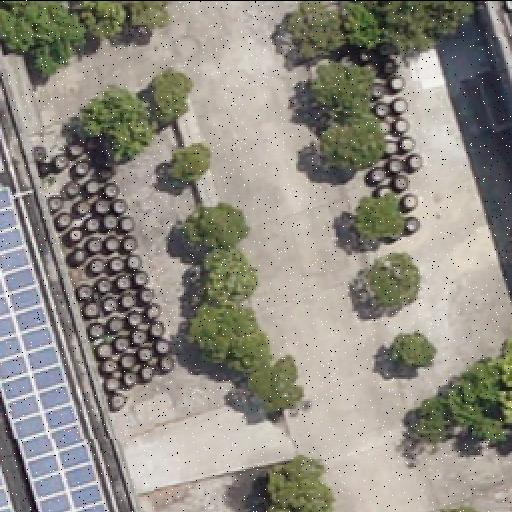solar-panel: (1, 184, 111, 512), (0, 464, 16, 512), (504, 0, 512, 8), (0, 165, 4, 171)
